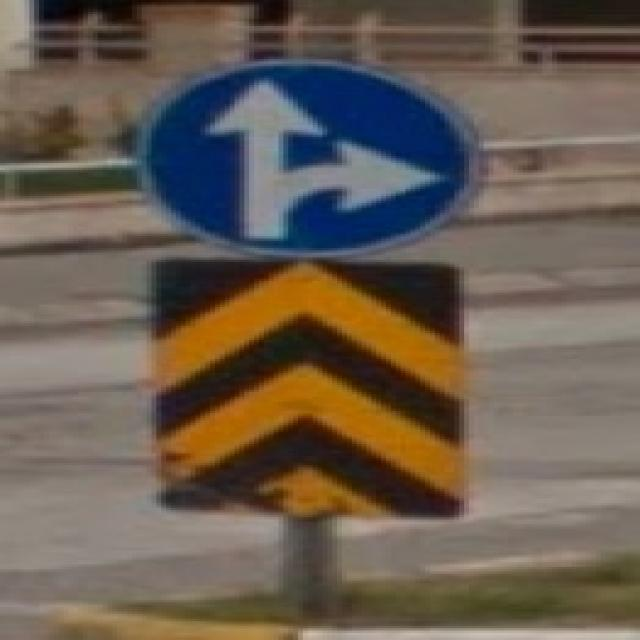Straight or Right: (145, 61, 468, 255)
